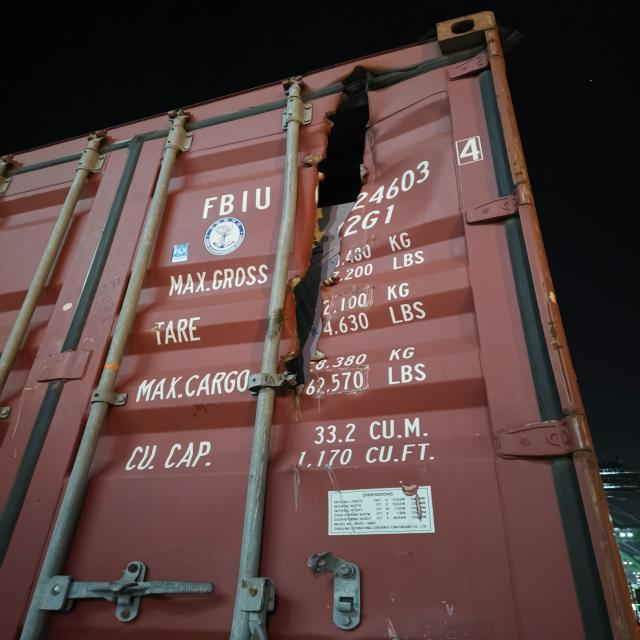hole: (281, 67, 372, 402)
